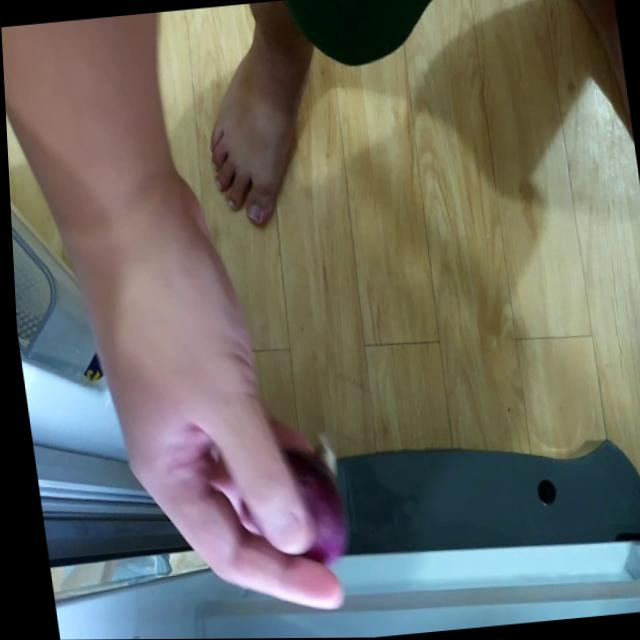onion: (223, 443, 353, 559)
